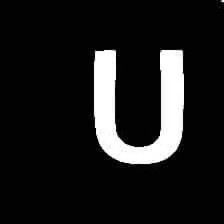LTR_U: (84, 39, 192, 169)
